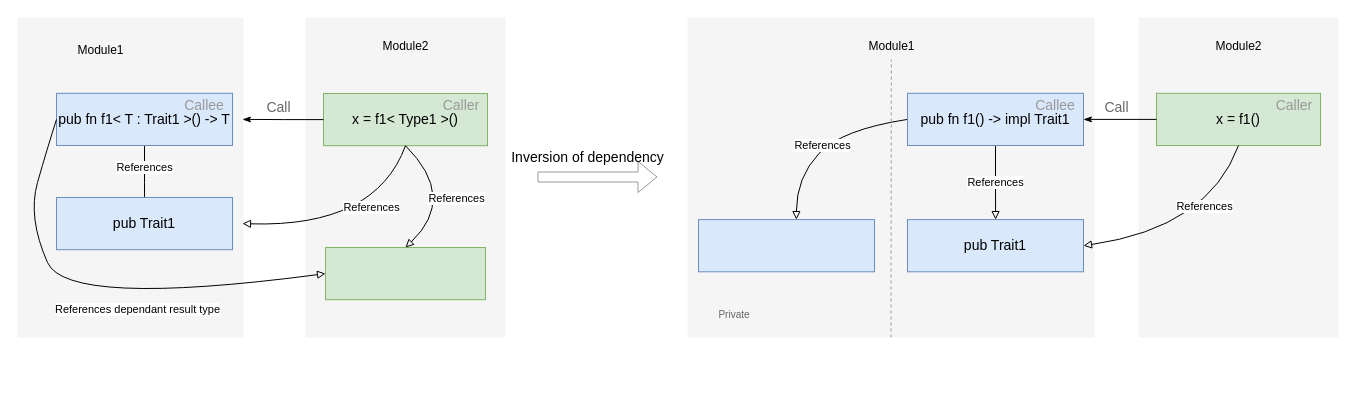
Image size: 1355x394. Some labels were removed from this diagram. Each missing label, with the centre of its shape:
"( private ) Type1" goes at (786,245).
"pub Type1" goes at (405,273).
